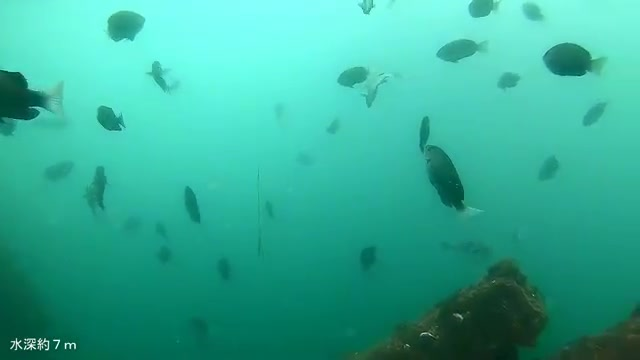smallfish: (420, 144, 486, 219), (527, 34, 620, 86), (99, 7, 155, 50), (430, 33, 490, 70), (91, 101, 133, 151), (534, 148, 575, 197), (571, 95, 613, 133), (494, 71, 533, 98)
